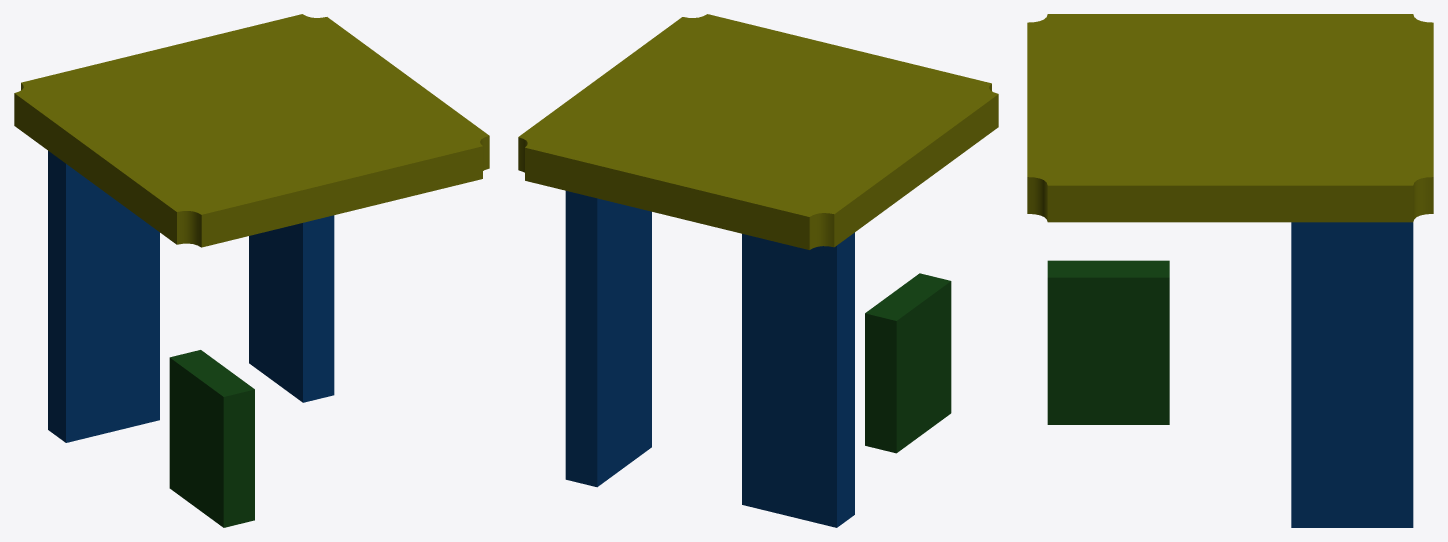
File: Pillar_05_O_B.fbx
3 views of the same model, side by side, from view 1: azimuth 30°, elevation 25°; view 2: azimuth 150°, elevation 25°; view 3: azimuth 270°, elevation 25° (orthographic). The views are drawn at different scales.
Visible parts, largest first — view 1: 4, 3, 2, 1; view 2: 4, 2, 3, 1; view 3: 2, 3, 1, 4.
Boxes of the visible parts, box(x1,y1,x2,y2) form: 4: box(14, 48, 251, 442); 3: box(95, 114, 342, 527); 2: box(162, 14, 407, 402); 1: box(252, 76, 489, 212); 4: box(667, 115, 916, 527); 2: box(518, 77, 757, 487); 3: box(759, 49, 998, 453); 1: box(601, 14, 849, 115); 2: box(1230, 99, 1433, 527); 3: box(1027, 14, 1230, 424); 1: box(1027, 99, 1230, 222); 4: box(1230, 14, 1433, 99).
Bounding box in the file's own units: 200 × 200 × 200.
